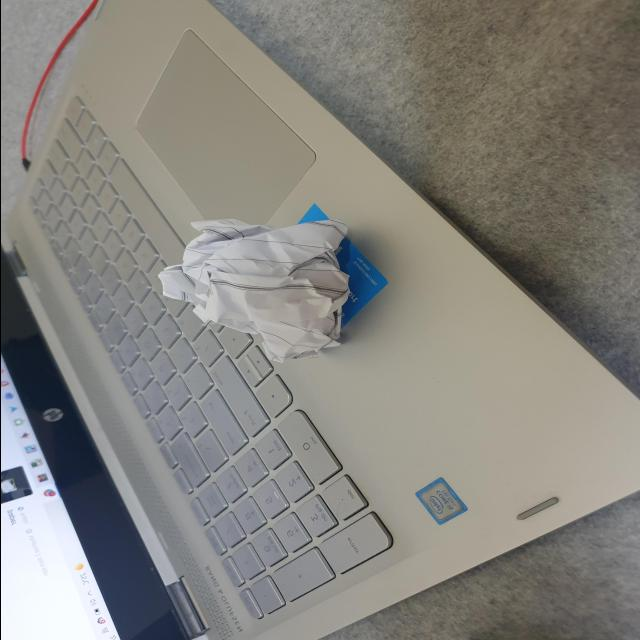kertas: (148, 212, 358, 368)
